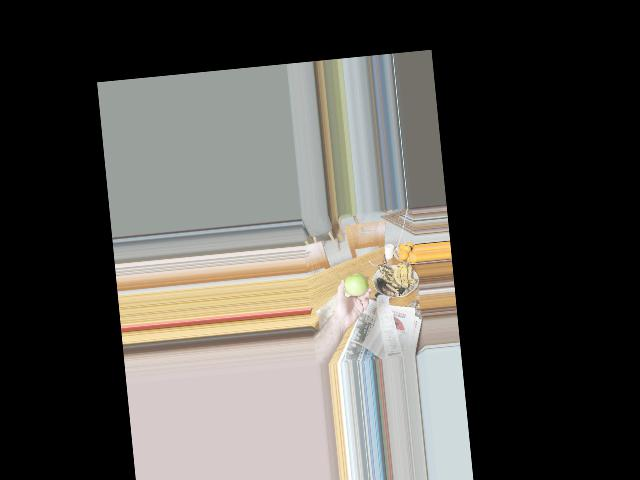apple: (340, 269, 368, 300)
